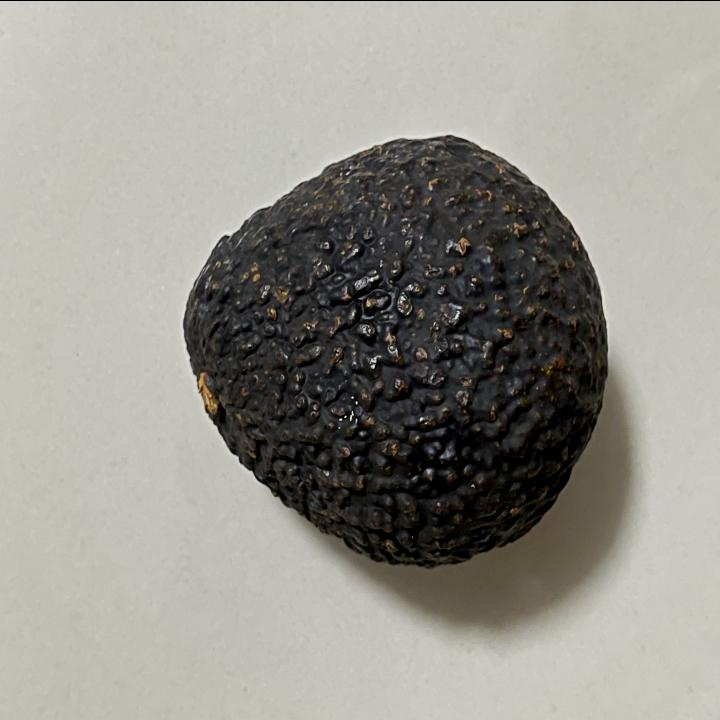Level2: (171, 124, 614, 577)
